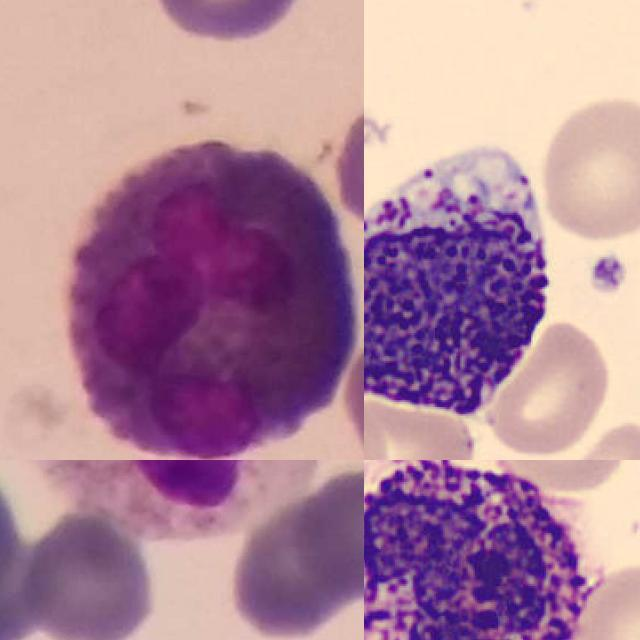Basophil: (364, 130, 565, 428), (364, 460, 610, 640)
Eosinophil: (64, 138, 362, 460)
Neutrophil: (13, 460, 318, 540)
Platelets: (586, 252, 629, 299)
RBC: (485, 317, 615, 458), (534, 91, 640, 243), (565, 558, 640, 640), (515, 417, 640, 460), (480, 460, 633, 494)
